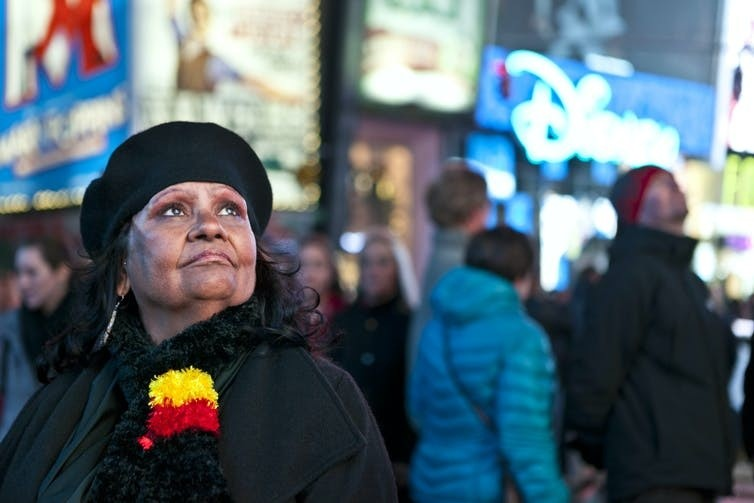face_no_mask: (108, 136, 269, 319), (14, 237, 72, 310), (356, 236, 399, 301), (290, 236, 333, 300)
